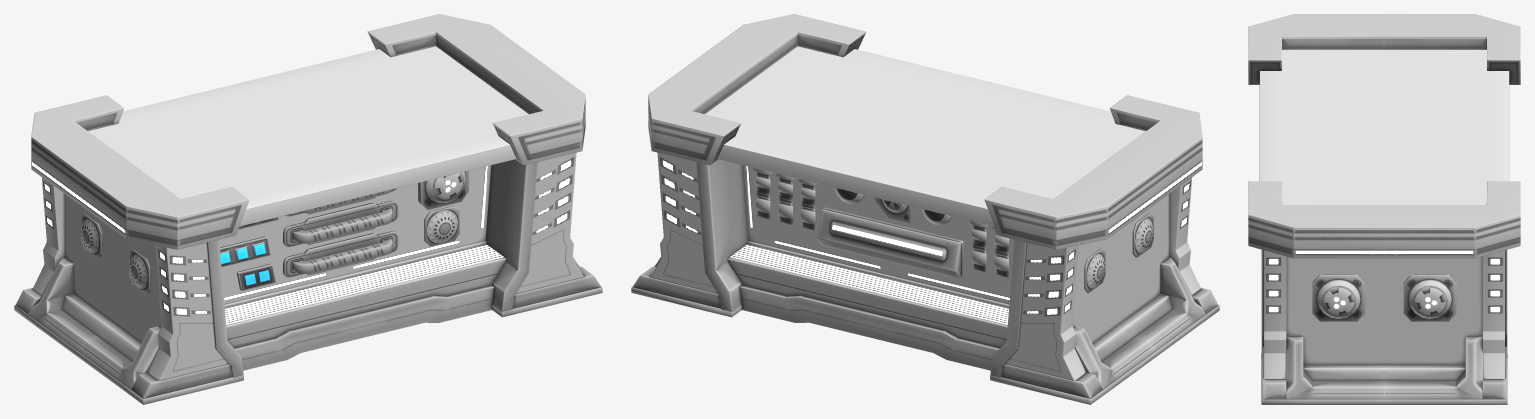
Rendered from Table01_1.FBX.
3 views of the same model, side by side, from view 1: azimuth 30°, elevation 25°; view 2: azimuth 150°, elevation 25°; view 3: azimuth 270°, elevation 25° (orthographic). The views are drawn at different scales.
Visible parts, largest first — view 1: Table01_1; view 2: Table01_1; view 3: Table01_1.
Boxes of the visible parts, left/top/right/bottom form: Table01_1: left=14, top=14, right=602, bottom=404; Table01_1: left=631, top=14, right=1219, bottom=404; Table01_1: left=1248, top=14, right=1520, bottom=404.
Size of what is drawn, in the model's own units: 2.52 by 0.9753 by 1.36.
